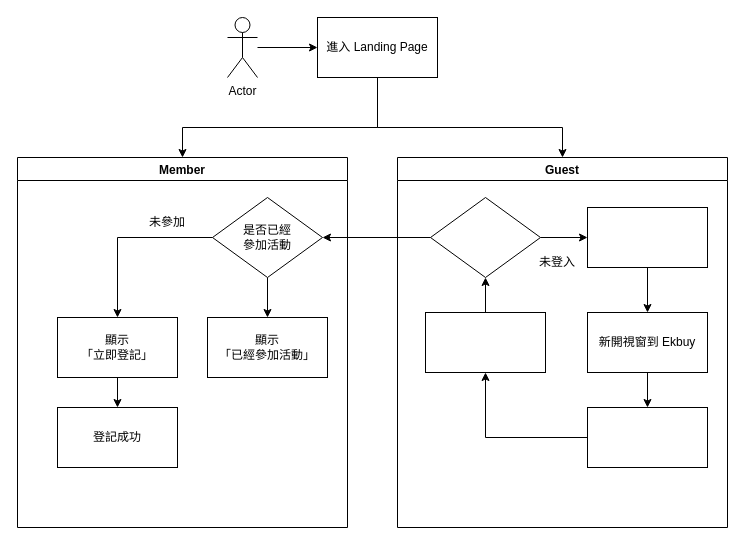
Image size: 745x545. Some labels were removed from this diagram. The box of each missing label's shape, as (x1, y1, x2, y2) in pixels:
完成登入 / 註冊: (586, 406, 708, 468)
是否已經 成功登入: (430, 196, 540, 278)
用戶手動刷新 Landing Page: (424, 312, 546, 372)
顯示 「立即登入」: (586, 206, 708, 268)
